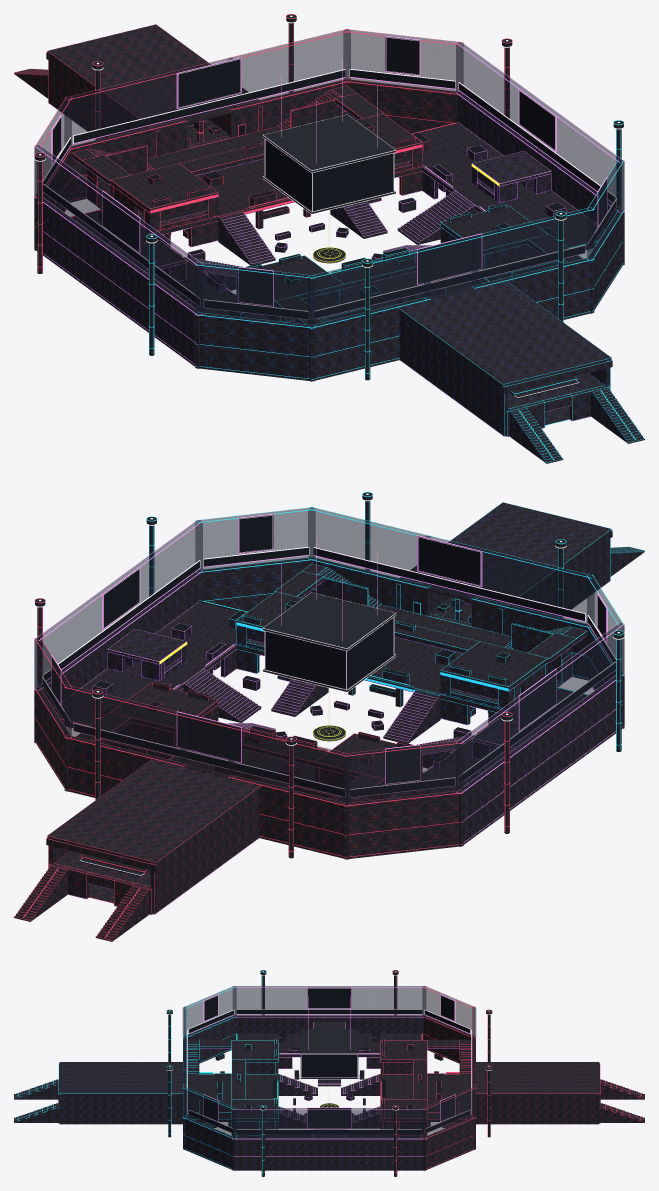
Rendered from kb_arena_v34.glb.
3 renders of one model, top to bottom at view 1: azimuth 30°, elevation 25°; view 2: azimuth 150°, elevation 25°; view 3: azimuth 270°, elevation 25°, orthographic. The views are drawn at different scales.
Parts seen in each view (by area): view 1: skin; view 2: skin; view 3: skin.
Part boxes in pixels (x1=…): skin: x1=14, y1=14, x2=644, y2=463; skin: x1=14, y1=492, x2=644, y2=941; skin: x1=14, y1=970, x2=644, y2=1176.
Bounding box in the file's own units: 140 × 49.53 × 271.
Materials: 24 (6 with a texture image).
